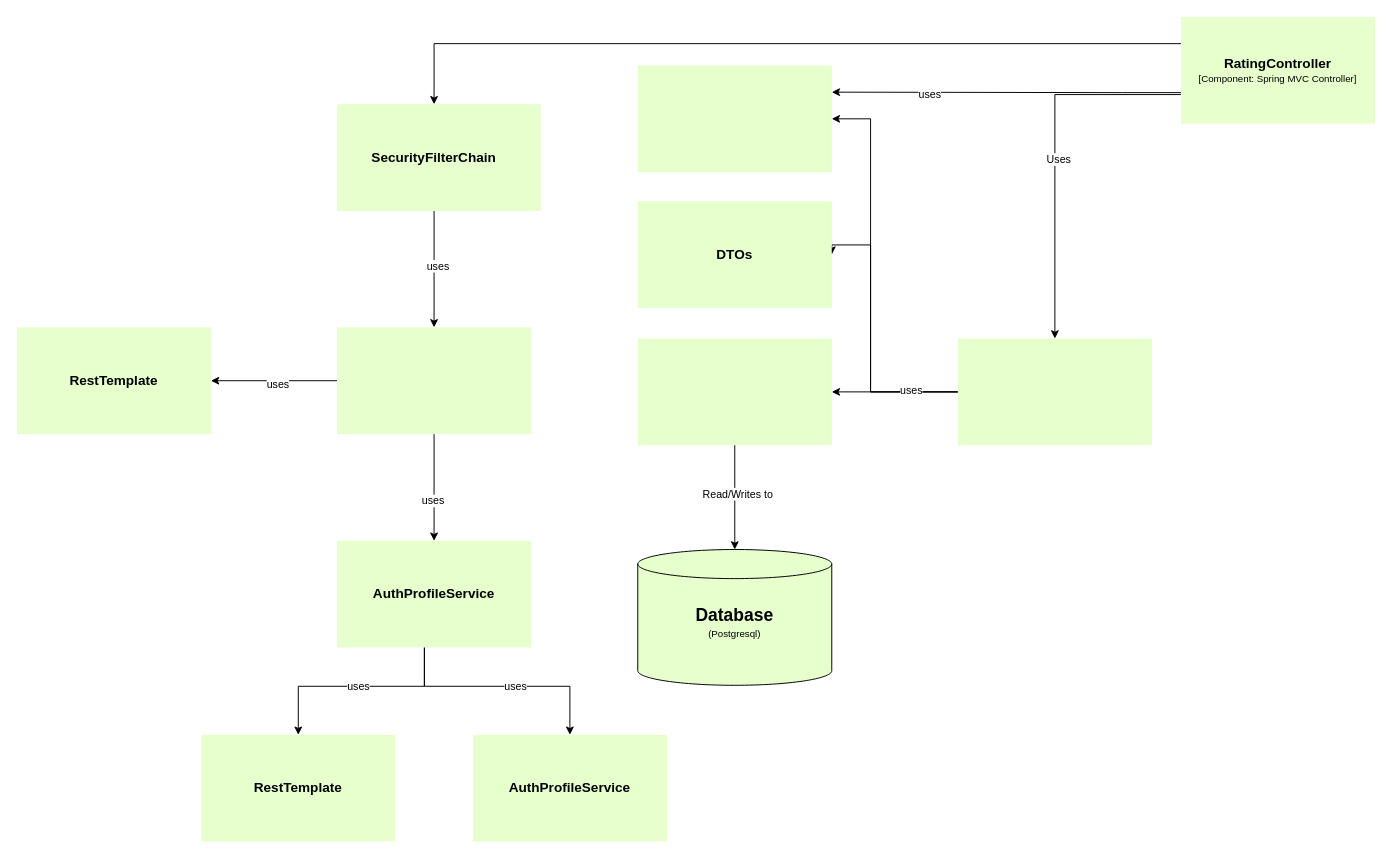
The diagram is 1391 pixels wide and 857 high, and some of its shapes have lost their labels. The box of each missing label's shape, as (x1, y1, x2, y2) in pixels:
JWTAuthFilter: (337, 327, 531, 434)
Mapper: (637, 65, 831, 172)
RatingRepository [Component: Spring Repository]: (637, 338, 831, 445)
RatingService [Component: Spring Service]: (957, 338, 1151, 445)
